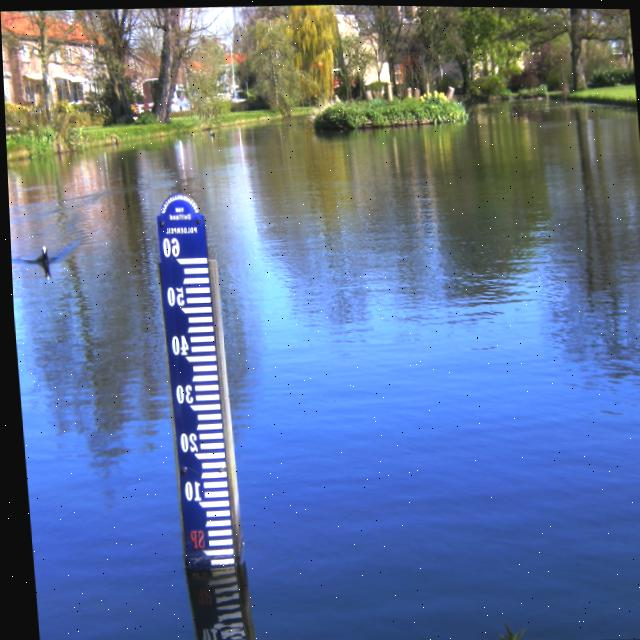water-meter: (158, 189, 239, 606)
